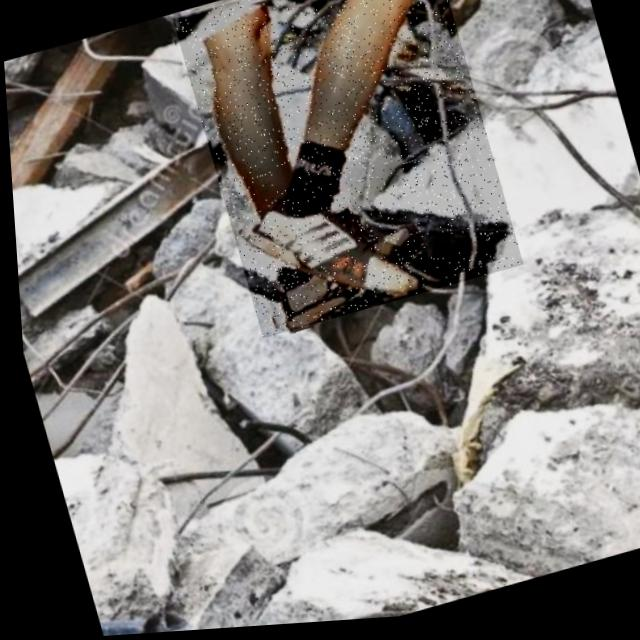Person in Rubble: (170, 0, 521, 344)
